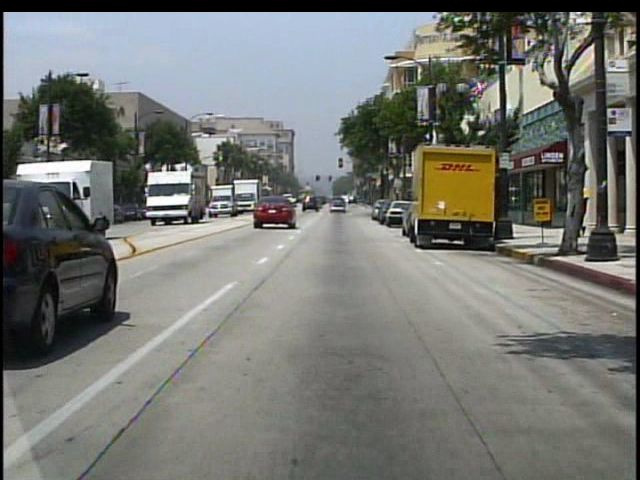person: (576, 181, 591, 239)
